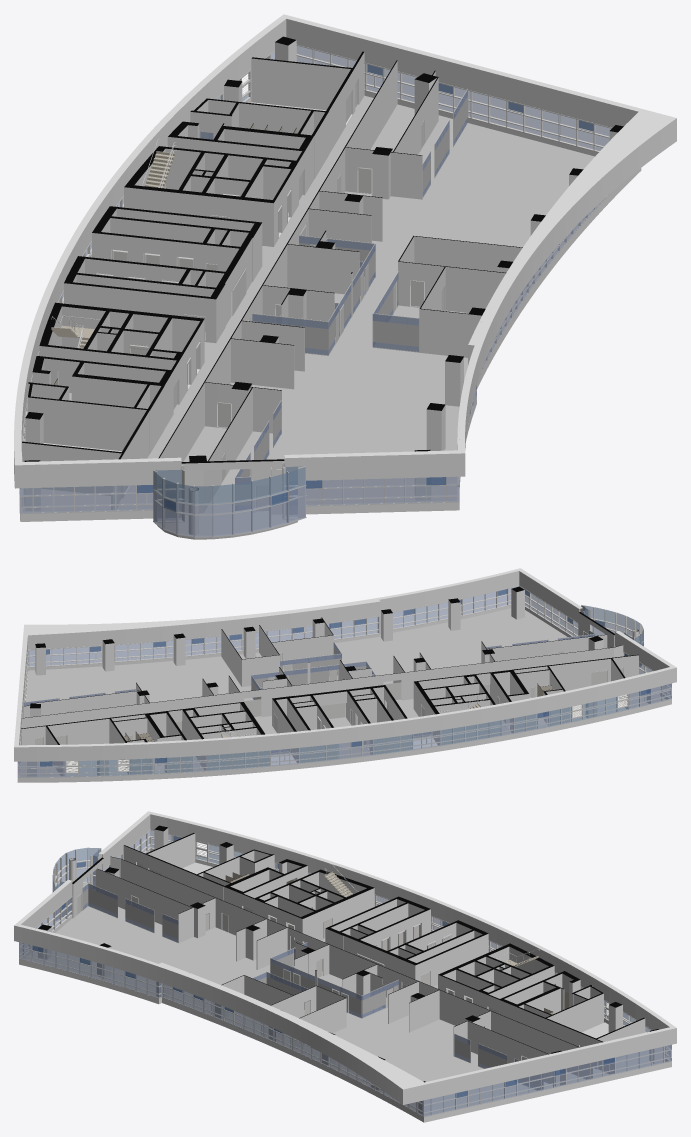
3 renders of one model, top to bottom at view 1: azimuth 30°, elevation 25°; view 2: azimuth 150°, elevation 25°; view 3: azimuth 270°, elevation 25°, orthographic. The views are drawn at different scales.
Visible parts, largest first — view 1: A1-14F-Wall1, A1-14F-Floor, A1-14F-Dry Wall, A1-14F-In Dry Wall, A1-14F-Glass1, A1-14F-Frame, A1-14F-Column, A1-14F-Glass Wall, A1-14F-Door, A1-14F-Glass2, A1-14F-Wall2, A1-14F-Elevator (+2 smaller); view 2: A1-14F-Wall1, A1-14F-Floor, A1-14F-In Dry Wall, A1-14F-Dry Wall, A1-14F-Frame, A1-14F-Glass1, A1-14F-Glass2, A1-14F-Column, A1-14F-Glass Wall, A1-14F-Door, A1-14F-Glass3, A1-14F-Vent (+1 smaller); view 3: A1-14F-Wall1, A1-14F-Floor, A1-14F-Dry Wall, A1-14F-In Dry Wall, A1-14F-Glass1, A1-14F-Frame, A1-14F-Glass Wall, A1-14F-Column, A1-14F-Door, A1-14F-Glass2, A1-14F-Glass3, A1-14F-Elevator (+2 smaller).
Part boxes in pixels (left/top/right/bottom): A1-14F-Wall1: left=21, top=51, right=529, bottom=513; A1-14F-Floor: left=22, top=95, right=594, bottom=539; A1-14F-Dry Wall: left=14, top=14, right=676, bottom=488; A1-14F-In Dry Wall: left=19, top=17, right=641, bottom=521; A1-14F-Glass1: left=19, top=46, right=610, bottom=536; A1-14F-Frame: left=19, top=44, right=611, bottom=537; A1-14F-Column: left=24, top=36, right=623, bottom=534; A1-14F-Glass Wall: left=235, top=89, right=468, bottom=510; A1-14F-Door: left=119, top=81, right=444, bottom=510; A1-14F-Glass2: left=62, top=80, right=305, bottom=504; A1-14F-Wall2: left=181, top=459, right=284, bottom=514; A1-14F-Elevator: left=96, top=190, right=291, bottom=390; A1-14F-Wall1: left=21, top=617, right=638, bottom=775; A1-14F-Floor: left=20, top=608, right=665, bottom=776; A1-14F-In Dry Wall: left=17, top=570, right=671, bottom=782; A1-14F-Dry Wall: left=14, top=568, right=676, bottom=761; A1-14F-Frame: left=17, top=585, right=671, bottom=777; A1-14F-Glass1: left=17, top=586, right=671, bottom=777; A1-14F-Glass2: left=66, top=605, right=643, bottom=776; A1-14F-Column: left=27, top=586, right=659, bottom=776; A1-14F-Glass Wall: left=23, top=630, right=595, bottom=711; A1-14F-Door: left=35, top=631, right=622, bottom=757; A1-14F-Glass3: left=40, top=589, right=650, bottom=766; A1-14F-Vent: left=66, top=694, right=628, bottom=773; A1-14F-Wall1: left=96, top=833, right=645, bottom=1086; A1-14F-Floor: left=25, top=862, right=653, bottom=1114; A1-14F-Dry Wall: left=14, top=811, right=676, bottom=1104; A1-14F-In Dry Wall: left=19, top=813, right=671, bottom=1122; A1-14F-Glass1: left=19, top=830, right=671, bottom=1116; A1-14F-Frame: left=19, top=829, right=671, bottom=1117; A1-14F-Glass Wall: left=82, top=883, right=543, bottom=1090; A1-14F-Column: left=38, top=825, right=662, bottom=1115; A1-14F-Door: left=77, top=862, right=604, bottom=1071; A1-14F-Glass2: left=52, top=844, right=635, bottom=1025; A1-14F-Glass3: left=32, top=835, right=614, bottom=1097; A1-14F-Elevator: left=268, top=908, right=491, bottom=1002.
Size of the model in its own units: 71.25 by 5.2 by 71.71.
